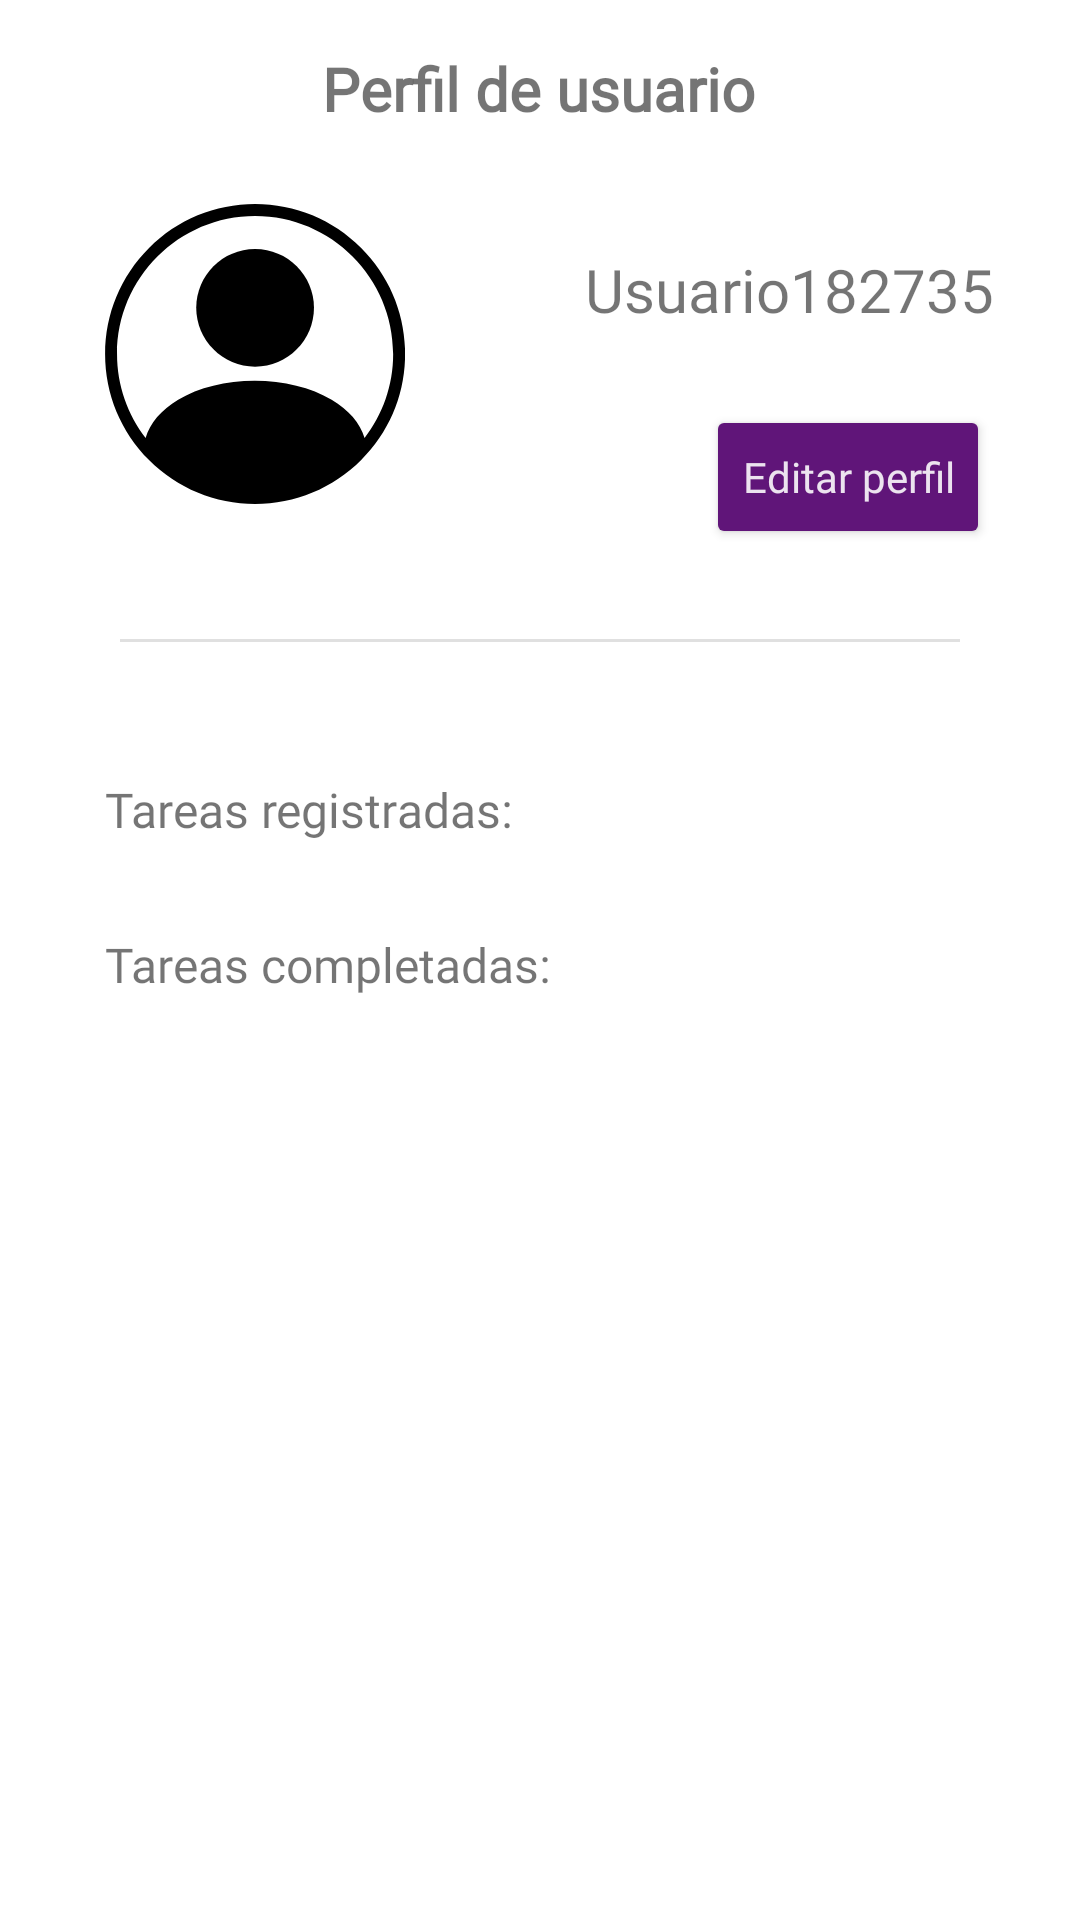

Locate icon controls on the screen. Image size 1080×1920, boxes as (left=x1, top=y1, right=x2, bottom=y2).
user sin login: (left=105, top=204, right=405, bottom=504)
